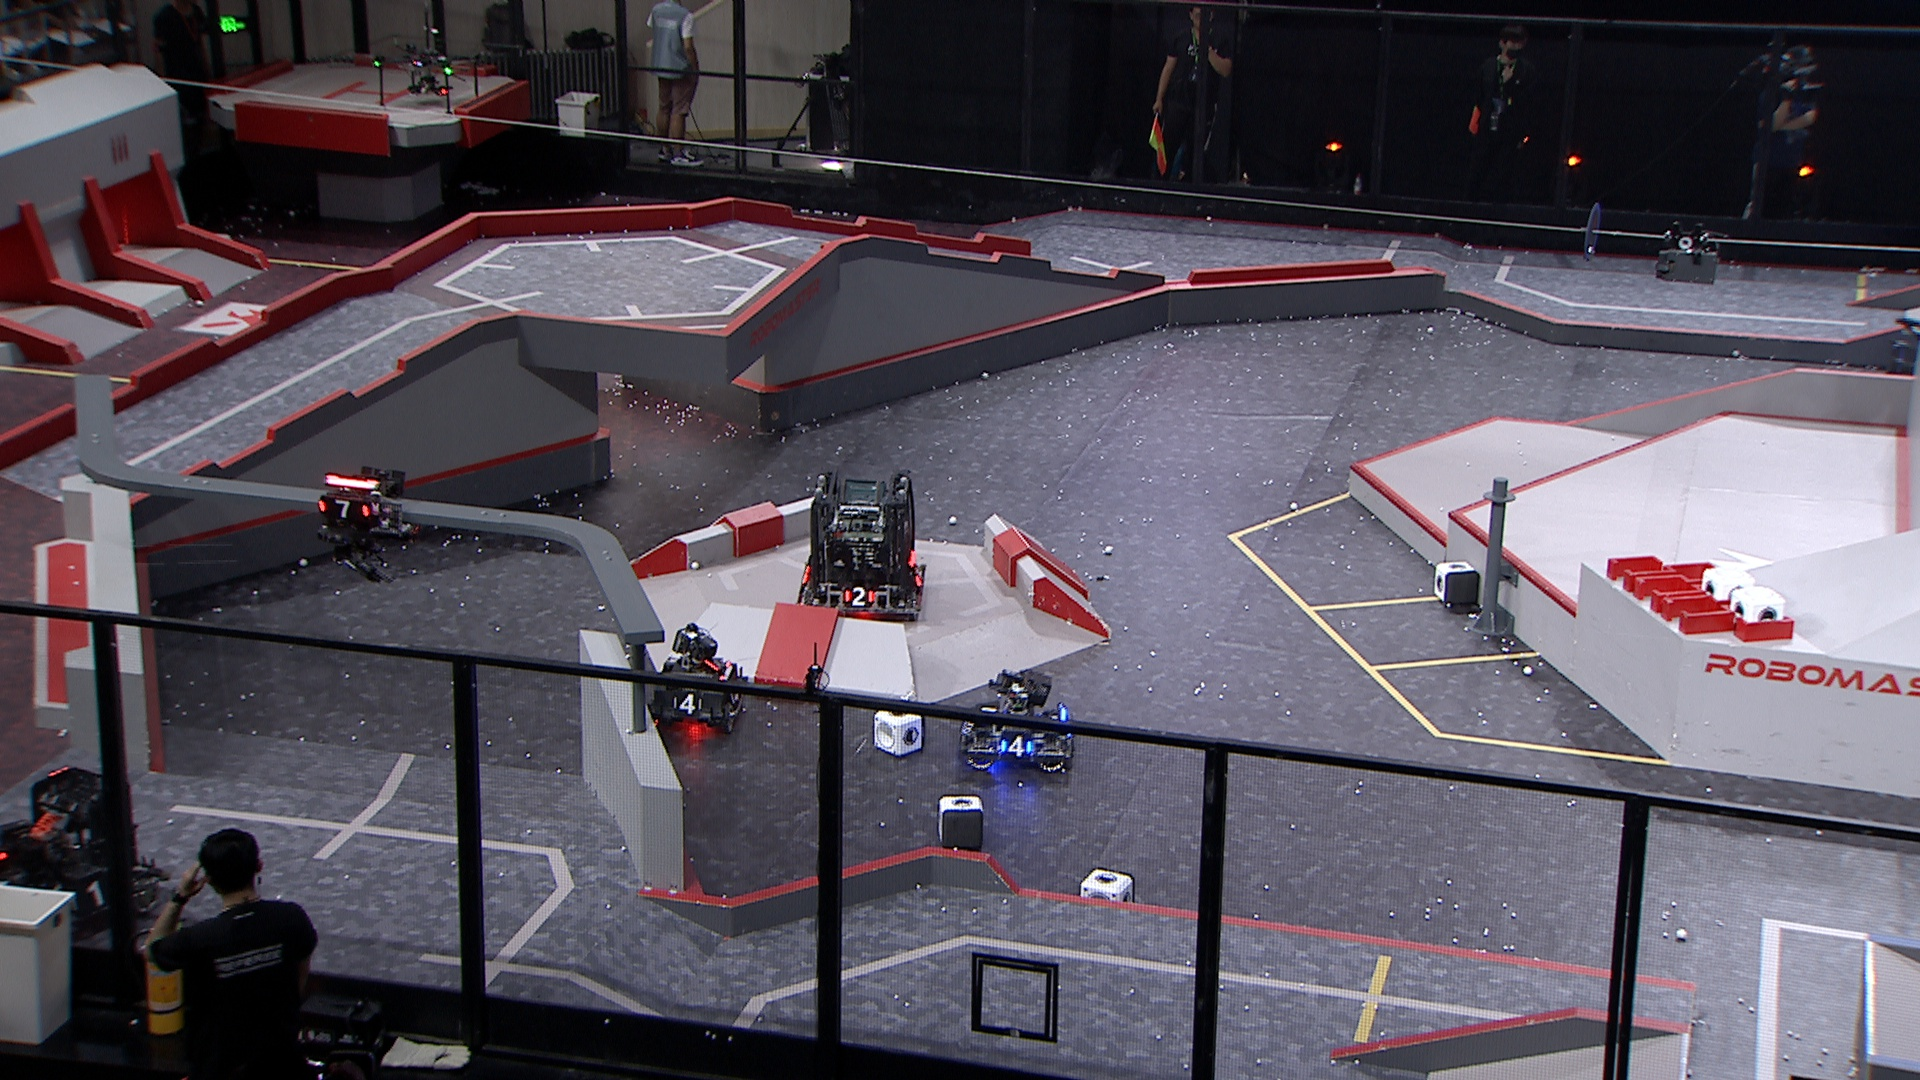armor: (69, 880, 107, 913), (318, 498, 372, 520), (1000, 736, 1036, 760), (671, 692, 704, 717), (845, 583, 874, 608)
car: (795, 469, 926, 622), (957, 666, 1077, 773), (645, 624, 745, 738)
watcher: (316, 462, 419, 583)
